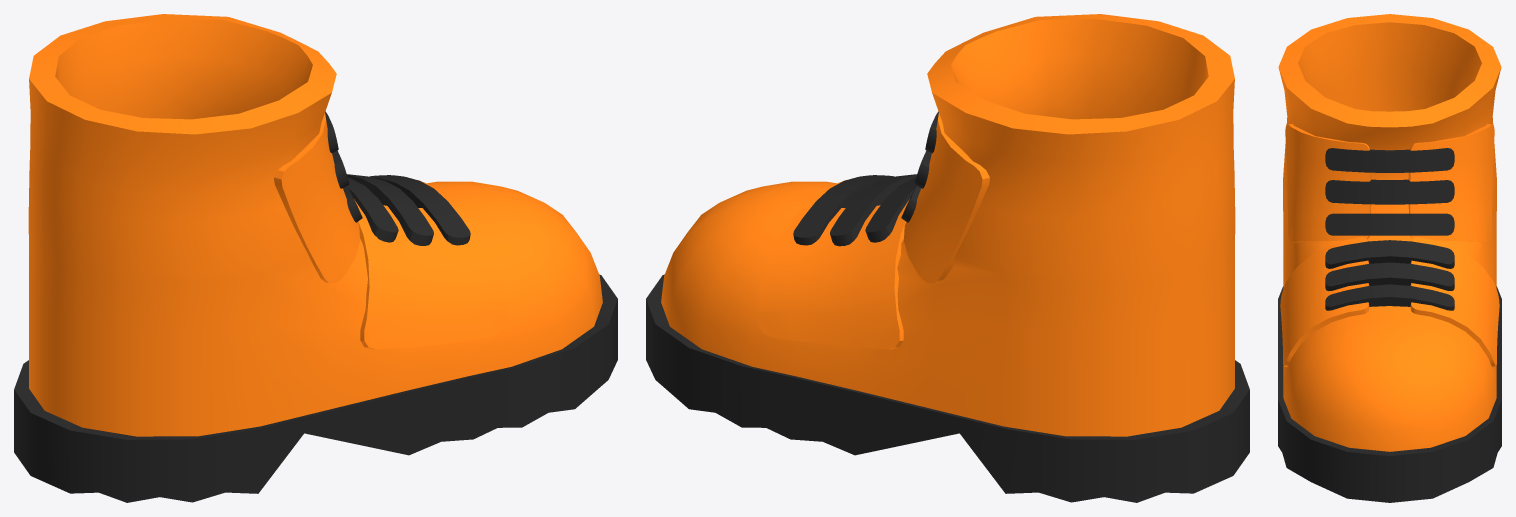
The model's file is hiking_boot.gltf.
3 views of the same model, side by side, from view 1: azimuth 30°, elevation 25°; view 2: azimuth 150°, elevation 25°; view 3: azimuth 270°, elevation 25° (orthographic). The views are drawn at different scales.
Parts seen in each view (by area): view 1: Sphere.366; view 2: Sphere.366; view 3: Sphere.366.
Part boxes in pixels (x1,y1,x2,y2): Sphere.366: (14,14,617,502); Sphere.366: (646,14,1249,502); Sphere.366: (1278,14,1501,502).
Bounding box in the file's own units: 2.24 × 1.4 × 0.9996.
1 material, 1 textured.
